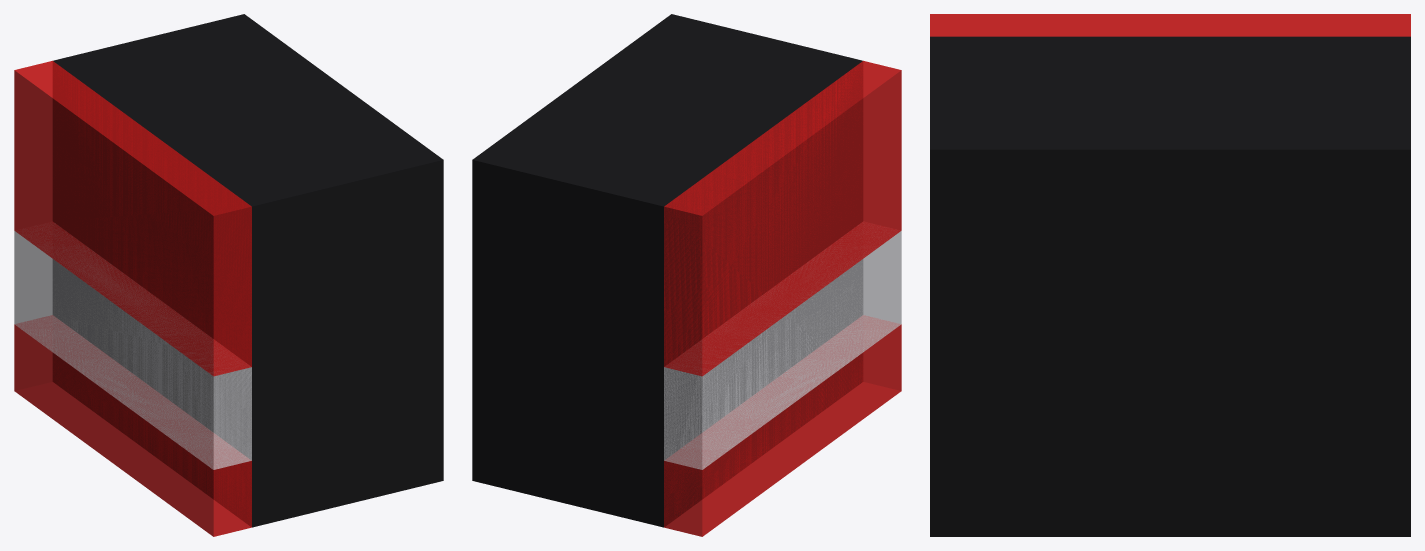
File: taillight_l.obj
The picture shows the model from 3 angles, left to right: view 1: azimuth 30°, elevation 25°; view 2: azimuth 150°, elevation 25°; view 3: azimuth 270°, elevation 25°; orthographic projection. The views are drawn at different scales.
Visible parts, largest first — view 1: Taillight_L; view 2: Taillight_L; view 3: Taillight_L.
Part boxes in pixels (left/top/right/bottom): Taillight_L: left=14, top=14, right=443, bottom=536; Taillight_L: left=472, top=14, right=901, bottom=536; Taillight_L: left=930, top=14, right=1410, bottom=536.
Size of the model in its own units: 0.18 by 0.24 by 0.27.
